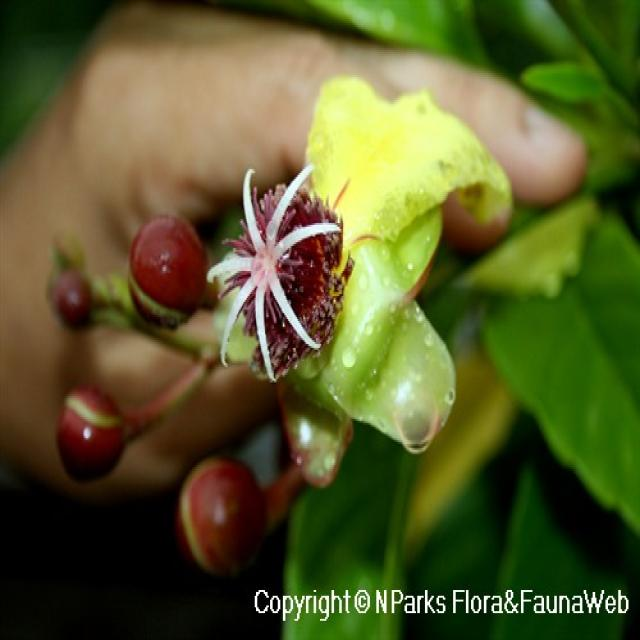Simpoh-Lak: (227, 75, 512, 484), (179, 452, 270, 570), (124, 212, 213, 328), (54, 388, 128, 481), (46, 248, 102, 340)
